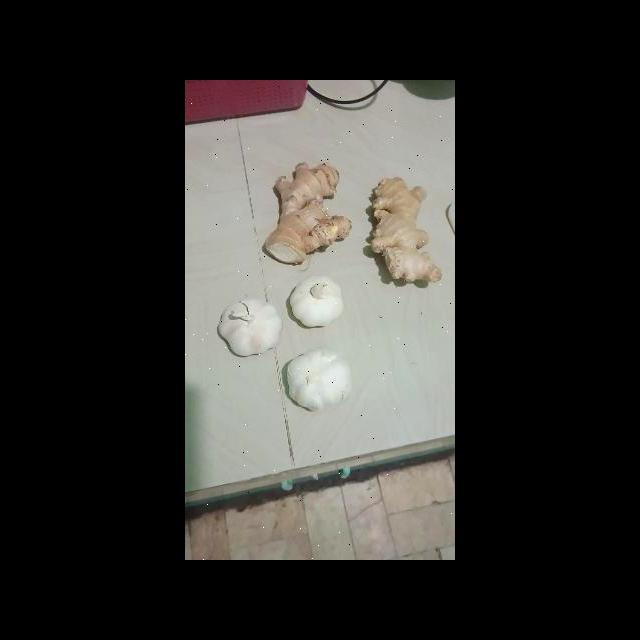garlic: (284, 347, 351, 412), (218, 298, 282, 354), (289, 276, 345, 330)
ginger: (259, 157, 353, 265), (363, 170, 443, 286)
